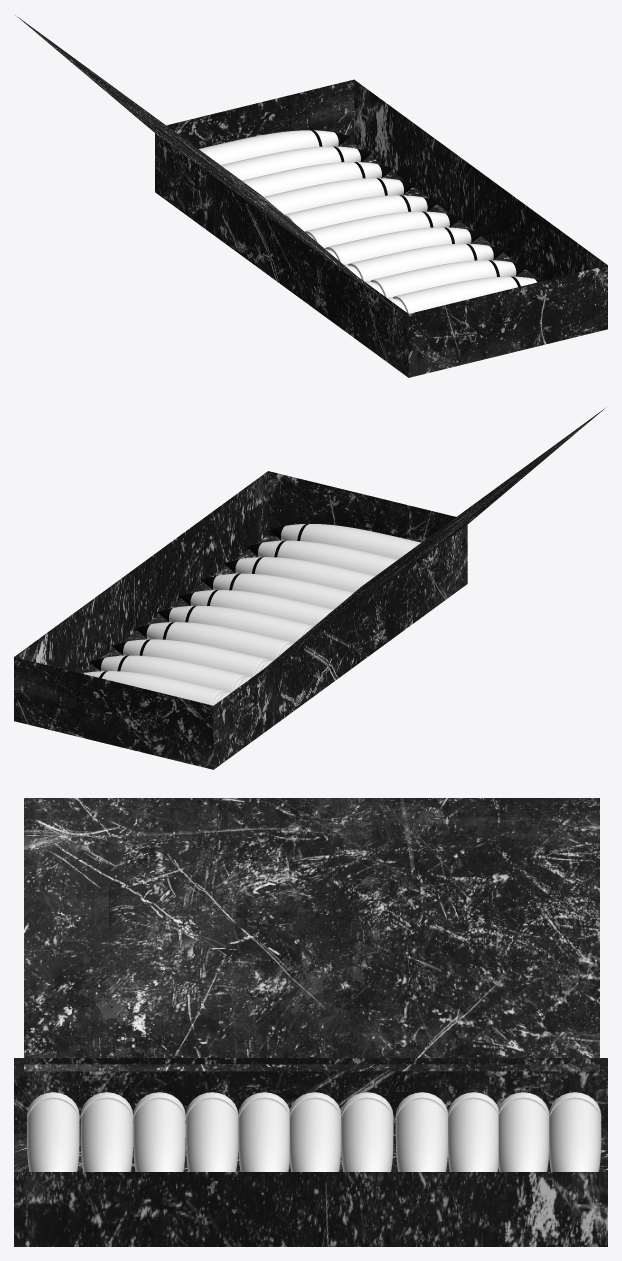
Rendered from Ammo.glb.
The picture shows the model from 3 angles, top to bottom: view 1: azimuth 30°, elevation 25°; view 2: azimuth 150°, elevation 25°; view 3: azimuth 270°, elevation 25°; orthographic projection. The views are drawn at different scales.
Parts seen in each view (by area): view 1: Bullet; view 2: Bullet; view 3: Bullet.
Part boxes in pixels (<box>): Bullet: <box>15,15,607,377</box>; Bullet: <box>14,408,604,769</box>; Bullet: <box>14,798,607,1246</box>.
Bounding box in the file's own units: 3.45 × 2.07 × 4.41.
3 materials, 1 textured.
